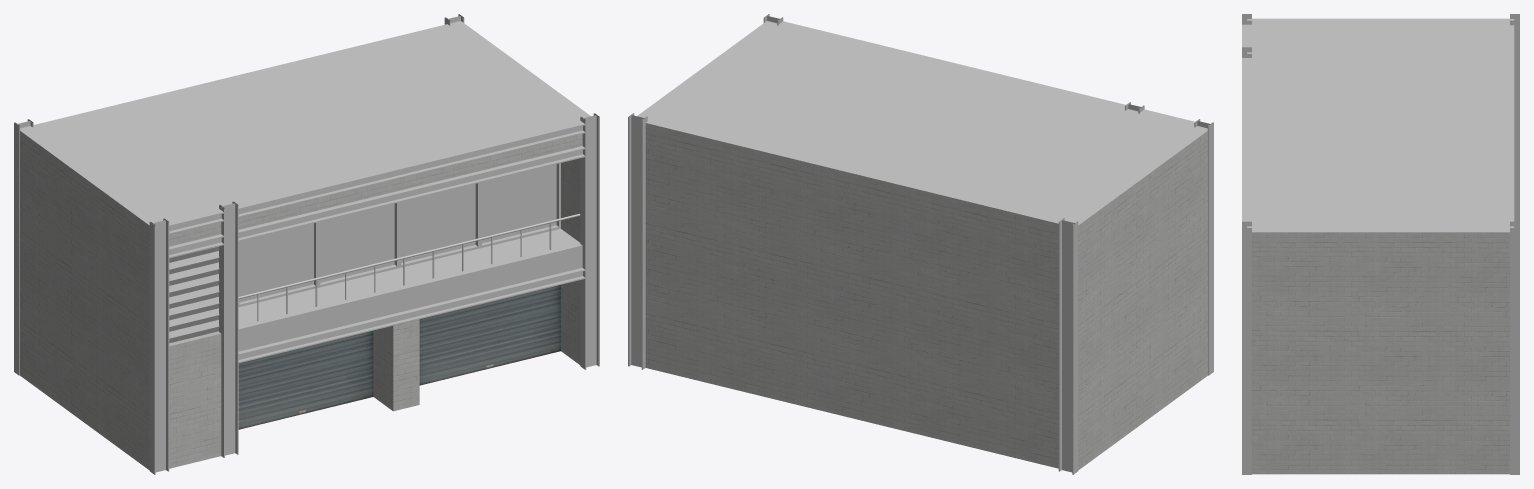
Rendered from PitBuilding_A.fbx.
3 renders of one model, left to right at view 1: azimuth 30°, elevation 25°; view 2: azimuth 150°, elevation 25°; view 3: azimuth 270°, elevation 25°, orthographic.
Parts seen in each view (by area): view 1: Walls, Red_Beams, Metal_Beams, Railing_Top, Railings_Vertical; view 2: Walls, Red_Beams, Metal_Beams; view 3: Walls, Red_Beams, Metal_Beams.
Boxes of the visible parts, bbox=[...] form: Walls: bbox=[20, 21, 590, 470]; Red_Beams: bbox=[14, 14, 599, 474]; Metal_Beams: bbox=[168, 120, 585, 363]; Railing_Top: bbox=[238, 213, 580, 298]; Railings_Vertical: bbox=[257, 223, 551, 321]; Walls: bbox=[637, 21, 1207, 470]; Red_Beams: bbox=[628, 14, 1213, 474]; Metal_Beams: bbox=[778, 21, 1194, 126]; Walls: bbox=[1247, 18, 1514, 474]; Red_Beams: bbox=[1242, 14, 1519, 474]; Metal_Beams: bbox=[1242, 24, 1251, 221].
Size of the model in its own units: 15.21 by 8.15 by 8.32.
